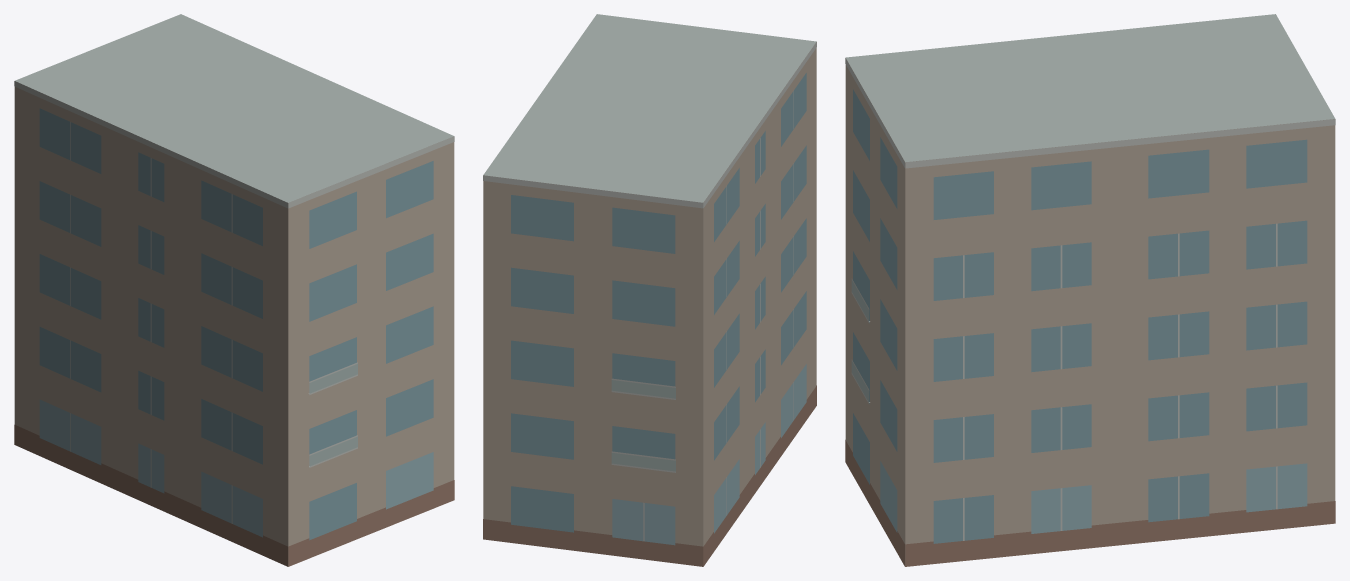
Rendered from survey-upis-32573815.glb.
3 views of the same model, side by side, from view 1: azimuth 30°, elevation 25°; view 2: azimuth 150°, elevation 25°; view 3: azimuth 270°, elevation 25° (orthographic). The views are drawn at different scales.
Parts seen in each view (by area): view 1: survey-upis-32573815.tmp; view 2: survey-upis-32573815.tmp; view 3: survey-upis-32573815.tmp.
Boxes of the visible parts, box(x1,y1,x2,y2) form: survey-upis-32573815.tmp: box(14, 14, 454, 566); survey-upis-32573815.tmp: box(483, 14, 816, 566); survey-upis-32573815.tmp: box(845, 14, 1335, 566).
Bounding box in the file's own units: 12.3 × 15.65 × 17.19.
